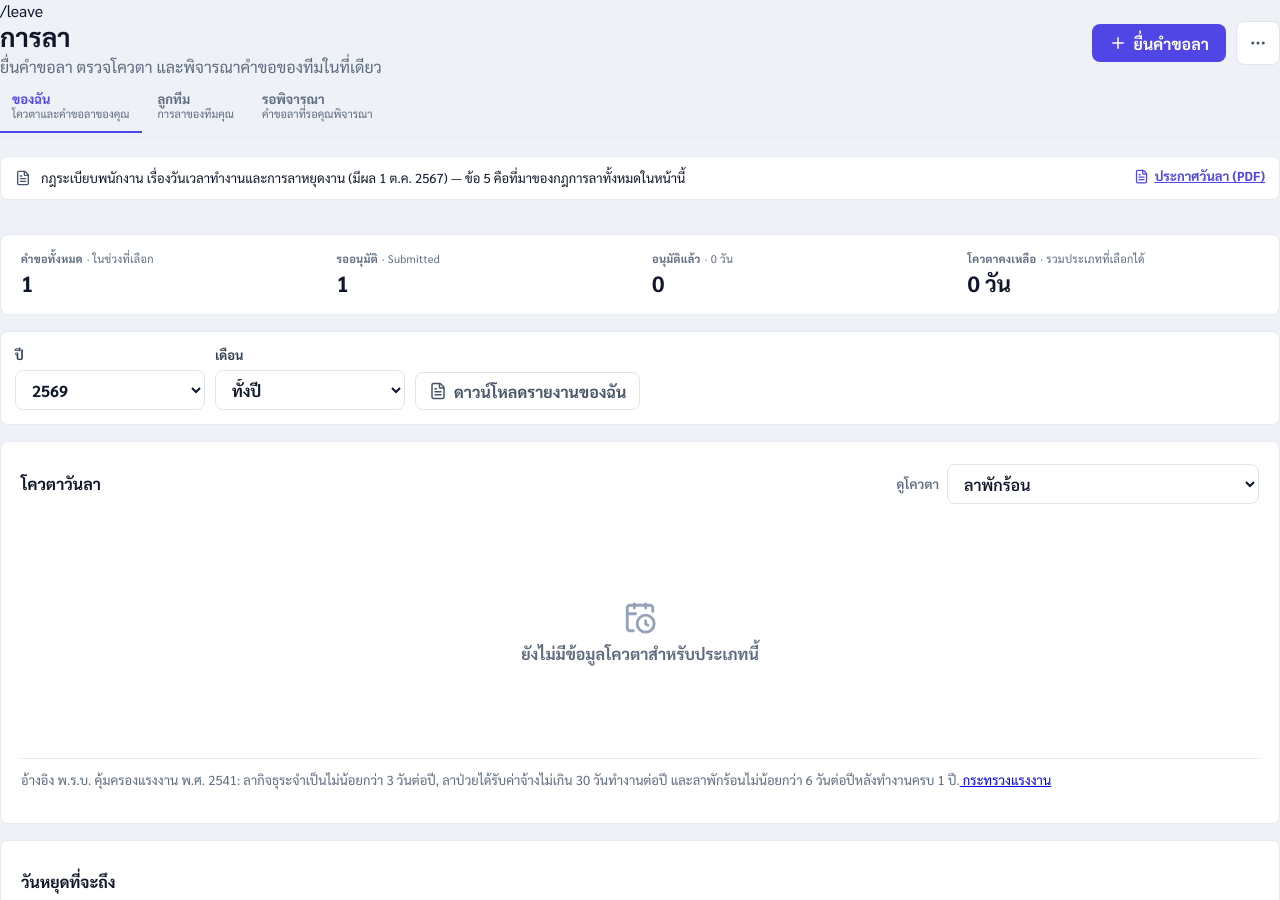
it: LeaveSurfacePage › switching tabs writes ?tab= with replace (no new history entry)
This screenshot has width=1280, height=900.
Click the tab "รอพิจารณา คำขอลาที่รอคุณพิจารณา": click(317, 107) x1=250 y1=81 x2=385 y2=133
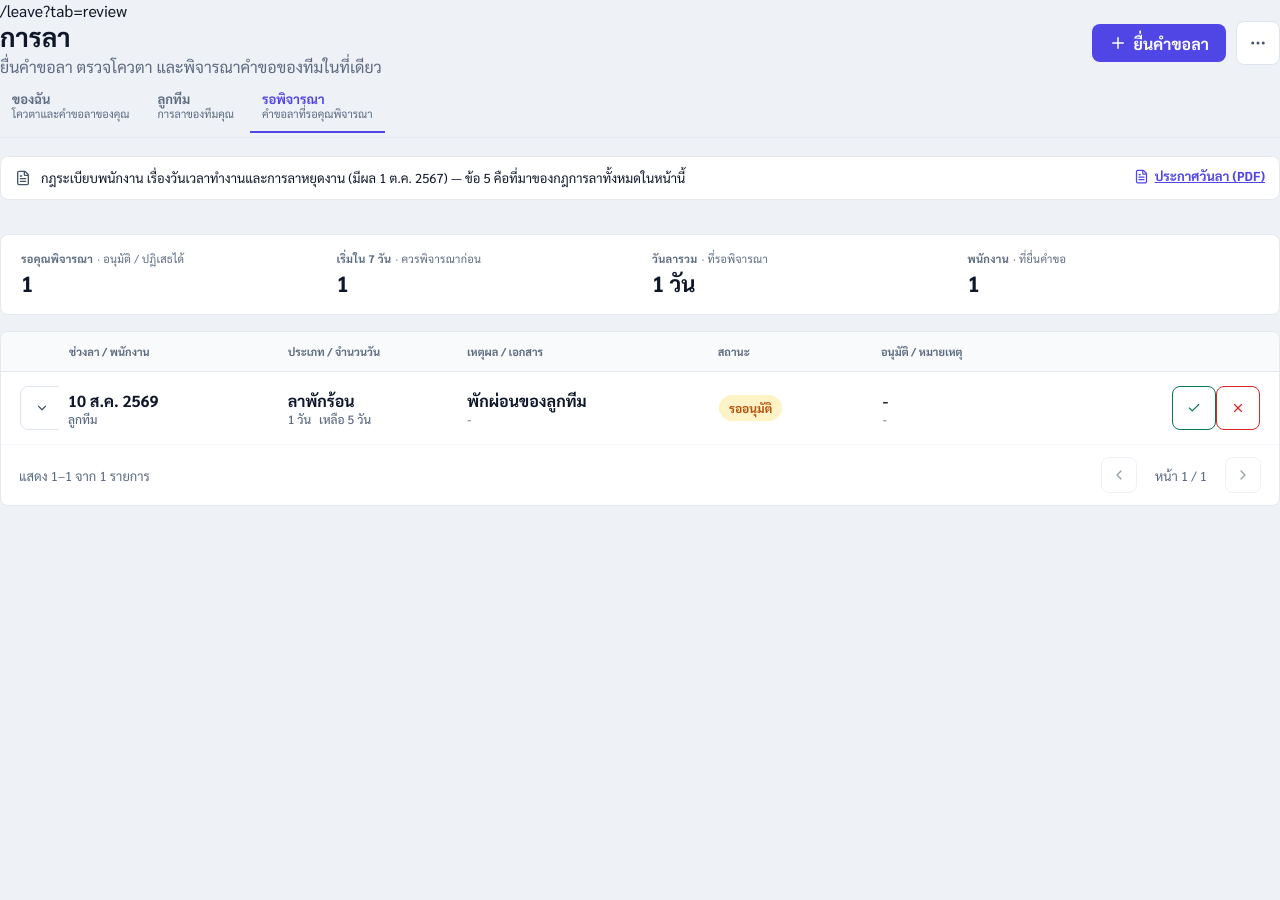
Expected: the text with test id "location-probe" reads "/leave?tab=review", x1=0 y1=0 x2=127 y2=21
